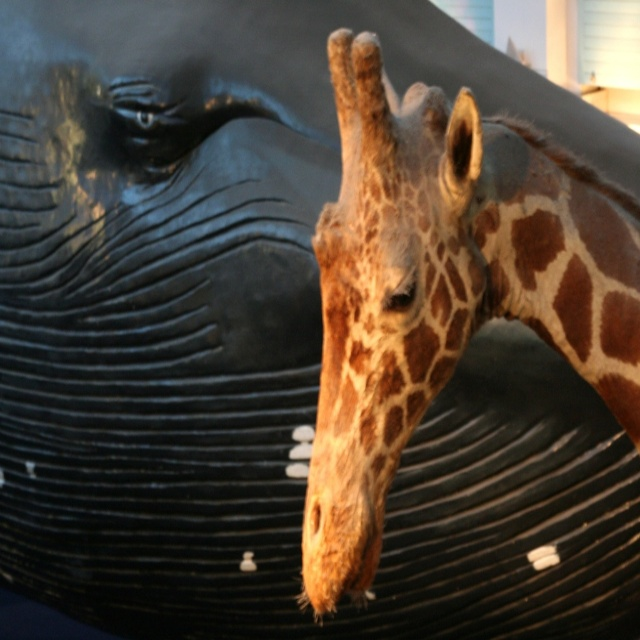Giraffe: (291, 33, 640, 611)
